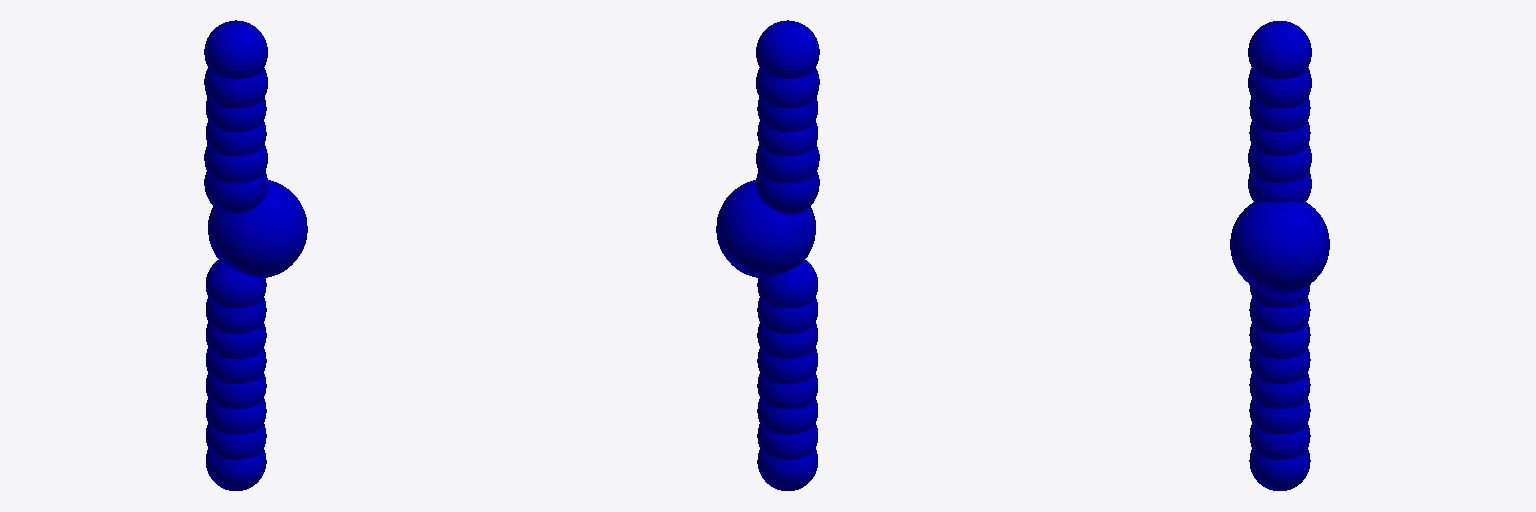
URDF robot description (wam):
<?xml version="1.0" ?>
<!-- =================================================================================== -->
<!-- |    This document was autogenerated by xacro from ./wam7.urdf.xacro              | -->
<!-- |    EDITING THIS FILE BY HAND IS NOT RECOMMENDED                                 | -->
<!-- =================================================================================== -->
<robot name="wam">
  <!-- Include all the WAM stuff -->
  <material name="WAMGrey">
    <color rgba="0.7 0.7 0.7 1.0"/>
  </material>
  <material name="Red">
        <color rgba="0.8 0.0 0.0 1.0"/>
    </material>
    <material name="Blue">
        <color rgba="0.0 0.0 0.8 1.0"/>
    </material>
    <material name="White">
        <color rgba="1.0 1.0 1.0 1.0"/>
    </material>
    <material name="Black">
        <color rgba="0.0 0.0 0.0 1.0"/>
    </material>
  <!-- Root link is in the world frame-->
  <link name="world"/>
  <!-- 7-DOF Wam -->
  <joint name="wam/wam_fixed_joint" type="fixed">
    <parent link="world"/>
    <child link="wam/base_link"/>
    <origin xyz="0.0 0.0 0.0" rpy="0 0 0"/>
  </joint>
  <link name="wam/base_link">
    <inertial>
      <origin xyz="0 0 0"/>
      <mass value="1"/>
      <inertia ixx="0.1" ixy="0" ixz="0" iyy="0.1" iyz="0" izz="0.1"/>
    </inertial>
    <visual>
      <material name="WAMGrey">
        <color rgba="0.7 0.7 0.7 0.0"/>
      </material>
      <geometry>
        <mesh filename="package://sw_meshes/base_link_fine.stl"/>
      </geometry>
    </visual>
    <collision>
      <geometry>
        <mesh filename="package://sw_meshes/base_link_convex.dae"/>
      </geometry>
    </collision>
  </link>
  <joint name="wam/base_yaw_joint" type="revolute">
    <parent link="wam/base_link"/>
    <child link="wam/shoulder_yaw_link"/>
    <origin xyz="0 0 0.346" rpy="0 0 0"/>
    <axis xyz="0 0 1"/>
    <limit effort="60" lower="-2.6" upper="2.6" velocity="2.0"/>
    <dynamics damping="1.9800000000000002" friction="0"/>
  </joint>
  <gazebo reference="wam/base_yaw_joint">
    <provideFeedback>true</provideFeedback>
    <implicitSpringDamper>true</implicitSpringDamper>
  </gazebo>
  <link name="wam/shoulder_yaw_link">
    <inertial>
      <origin xyz="-.00443422 -.00066489 -0.1289039 "/>
      <mass value="5.0"/>
      <inertia ixx=".13488033" ixy="-0.00012485" ixz="0.00213041" iyy=".09046330" iyz="-.00068555" izz=".11328369"/>
    </inertial>
    <visual>
      <material name="WAMGrey">
        <color rgba="0.7 0.7 0.7 1.0"/>
      </material>
      <geometry>
        <mesh filename="package://sw_meshes/shoulder_link_fine.stl"/>
      </geometry>
    </visual>
    <collision>
      <geometry>
        <mesh filename="package://sw_meshes/shoulder_link_convex_decomposition.dae"/>
      </geometry>
    </collision>
  </link>
  <joint name="wam/shoulder_pitch_joint" type="revolute">
    <parent link="wam/shoulder_yaw_link"/>
    <child link="wam/shoulder_pitch_link"/>
    <origin xyz="0 0 0" rpy="-1.5707963267948966 0 0"/>
    <axis xyz="0 0 1"/>
    <limit effort="60" lower="-1.985" upper="1.985" velocity="2.0"/>
    <dynamics damping="0.55" friction="0"/>
  </joint>
  <gazebo reference="wam/shoulder_pitch_joint">
    <provideFeedback>true</provideFeedback>
    <implicitSpringDamper>true</implicitSpringDamper>
  </gazebo>
  <link name="wam/shoulder_pitch_link">
    <visual>
      <material name="WAMGrey">
        <color rgba="0.7 0.7 0.7 1.0"/>
      </material>
      <geometry>
        <mesh filename="package://sw_meshes/shoulder_pitch_link_fine.stl"/>
      </geometry>
    </visual>
    
    <visual name="ball_2">
      <origin xyz="-0.0 -0.1 -0.0" rpy="0.0 -0.0 0.0"/>
      <geometry>
        <sphere radius="0.055"/>
      </geometry>
      <material name="Blue"/>
    </visual>
    <visual name="ball_2">
      <origin xyz="-0.0 -0.15 -0.0" rpy="0.0 -0.0 0.0"/>
      <geometry>
        <sphere radius="0.055"/>
      </geometry>
      <material name="Blue"/>
    </visual>
    <visual name="ball_2">
      <origin xyz="-0.0 -0.2 -0.0" rpy="0.0 -0.0 0.0"/>
      <geometry>
        <sphere radius="0.055"/>
      </geometry>
      <material name="Blue"/>
    </visual>
    <visual name="ball_2">
      <origin xyz="-0.0 -0.25 -0.0" rpy="0.0 -0.0 0.0"/>
      <geometry>
        <sphere radius="0.055"/>
      </geometry>
      <material name="Blue"/>
    </visual>
    <visual name="ball_2">
      <origin xyz="-0.0 -0.30 -0.0" rpy="0.0 -0.0 0.0"/>
      <geometry>
        <sphere radius="0.055"/>
      </geometry>
      <material name="Blue"/>
    </visual>
    <visual name="ball_2">
      <origin xyz="-0.0 -0.35 -0.0" rpy="0.0 -0.0 0.0"/>
      <geometry>
        <sphere radius="0.055"/>
      </geometry>
      <material name="Blue"/>
    </visual>
    <visual name="ball_2">
      <origin xyz="-0.0 -0.4 -0.0" rpy="0.0 -0.0 0.0"/>
      <geometry>
        <sphere radius="0.055"/>
      </geometry>
      <material name="Blue"/>
    </visual>
    <visual name="ball_2">
      <origin xyz="-0.0 -0.45 -0.0" rpy="0.0 -0.0 0.0"/>
      <geometry>
        <sphere radius="0.055"/>
      </geometry>
      <material name="Blue"/>
    </visual>
    <inertial>
      <origin xyz="-.00236981 -.01542114 .03105614 "/>
      <mass value="3.87493756"/>
      <inertia ixx="0.02140958" ixy="-0.00002461" ixz="0.00027172" iyy="0.015589060" iyz="0.0018192" izz="0.01377875"/>
    </inertial>
    <collision>
      <geometry>
        <mesh filename="package://sw_meshes/shoulder_pitch_link_convex.dae"/>
      </geometry>
    </collision>
  </link>
  <joint name="wam/shoulder_yaw_joint" type="revolute">
    <parent link="wam/shoulder_pitch_link"/>
    <child link="wam/upper_arm_link"/>
    <origin xyz="0 0 0" rpy="1.5707963267948966 0 0"/>
    <axis xyz="0 0 1"/>
    <limit effort="45" lower="-2.8" upper="2.8" velocity="2.0"/>
    <dynamics damping="1.6500000000000001" friction="0"/>
  </joint>
  <gazebo reference="wam/shoulder_yaw_joint">
    <provideFeedback>true</provideFeedback>
    <implicitSpringDamper>true</implicitSpringDamper>
  </gazebo>
  <link name="wam/upper_arm_link">
    <inertial>
      <origin xyz="0.00683258580000000 0.000033090000000 0.392492300000000"/>
      <mass value="2.20228141"/>
      <inertia ixx=".05911077" ixy="-0.00000738" ixz="-0.00249612" iyy="0.05927043" iyz="0.00001767" izz="0.0032455"/>
    </inertial>
    <visual>
      <material name="WAMGrey">
        <color rgba="0.7 0.7 0.7 1.0"/>
      </material>
      <geometry>
        <mesh filename="package://sw_meshes/upper_arm_link_fine.stl"/>
      </geometry>
    </visual>
    <collision>
      <geometry>
        <mesh filename="package://sw_meshes/upper_arm_link_convex_decomposition.dae"/>
      </geometry>
    </collision>
  </link>
  <joint name="wam/elbow_pitch_joint" type="revolute">
    <parent link="wam/upper_arm_link"/>
    <child link="wam/forearm_link"/>
    <origin xyz="0.045 0 0.55" rpy="-1.5707963267948966 0 0"/>
    <axis xyz="0 0 1"/>
    <limit effort="30" lower="-0.9" upper="3.141592653589793" velocity="2.00"/>
    <dynamics damping="0.8800000000000001" friction="0"/>
  </joint>
  <gazebo reference="wam/elbow_pitch_joint">
    <provideFeedback>true</provideFeedback>
    <implicitSpringDamper>true</implicitSpringDamper>
  </gazebo>
  <link name="wam/forearm_link">
    <inertial>
      <mass value="0.50016804"/>
      <origin xyz="-0.04001488 -.14271662 -.00022942 " rpy="0 0 0"/>
      <inertia ixx="0.01491672" ixy="0.001506040000000" ixz="0.000017410000000" iyy="0.002944630000000" iyz="0.000021090000000" izz="0.014829880000000"/>
    </inertial>
    <visual>
      <material name="WAMGrey">
        <color rgba="0.7 0.7 0.7 1.0"/>
      </material>
      <geometry>
        <mesh filename="package://sw_meshes/elbow_link_fine.stl"/>
      </geometry>
    </visual>
    <visual name="ball_0">
      <origin xyz="-0.00 -0.0 0.0" rpy="0.0 -0.0 0.0"/>
      <geometry>
        <sphere radius="0.09"/>
      </geometry>
      <material name="Blue"/>
    </visual>
    <visual name="ball_0">
      <origin xyz="-0.045 -0.1 0.0" rpy="0.0 -0.0 0.0"/>
      <geometry>
        <sphere radius="0.0575"/>
      </geometry>
      <material name="Blue"/>
    </visual>
    <visual name="ball_0">
      <origin xyz="-0.045 -0.15 0.0" rpy="0.0 -0.0 0.0"/>
      <geometry>
        <sphere radius="0.0575"/>
      </geometry>
      <material name="Blue"/>
    </visual>
    <visual name="ball_0">
      <origin xyz="-0.045 -0.2 0.0" rpy="0.0 -0.0 0.0"/>
      <geometry>
        <sphere radius="0.055"/>
      </geometry>
      <material name="Blue"/>
    </visual>
    <visual name="ball_0">
      <origin xyz="-0.045 -0.25 0.0" rpy="0.0 -0.0 0.0"/>
      <geometry>
        <sphere radius="0.055"/>
      </geometry>
      <material name="Blue"/>
    </visual>
    <collision>
      <geometry>
        <mesh filename="package://sw_meshes/elbow_link_convex.dae"/>
      </geometry>
    </collision>
    <visual>
      <material name="WAMGrey">
        <color rgba="0.7 0.7 0.7 1.0"/>
      </material>
      <origin xyz="-0.045 -0.0730 0" rpy="1.5707963267948966 0 0"/>
      <geometry>
        <mesh filename="package://sw_meshes/forearm_link_fine.stl"/>
      </geometry>
    </visual>
    <collision>
      <origin xyz="-0.045 -0.0730 0" rpy="1.5707963267948966 0 0"/>
      <geometry>
        <mesh filename="package://sw_meshes/forearm_link_convex_decomposition.dae"/>
      </geometry>
    </collision>
  </link>
  <joint name="wam/wrist_yaw_joint" type="revolute">
    <parent link="wam/forearm_link"/>
    <child link="wam/wrist_yaw_link"/>
    <origin xyz="-0.045 -0.3 0" rpy="1.5707963267948966 0 0"/>
    <axis xyz="0 0 1"/>
    <limit effort="10" lower="-4.55" upper="1.25" velocity="2.0"/>
    <dynamics damping="0.55" friction="0"/>
  </joint>
  <gazebo reference="wam/wrist_yaw_joint">
    <provideFeedback>true</provideFeedback>
    <implicitSpringDamper>true</implicitSpringDamper>
  </gazebo>
  <link name="wam/wrist_yaw_link">
    <inertial>
      <origin xyz="0.00008921 0.00435824 -0.00511217 "/>
      <mass value="1.05376019"/>
      <inertia ixx="0.00005029" ixy="0.00000020" ixz="0.00007582" iyy="0.00007582" iyz="-0.00000359" izz="0.00006270"/>
    </inertial>
    <visual>
      <material name="WAMGrey">
        <color rgba="0.7 0.7 0.7 1.0"/>
      </material>
      <origin xyz="0 0 0" rpy="0 0 0"/>
      <geometry>
        <mesh filename="package://sw_meshes/wrist_yaw_link_fine.stl"/>
      </geometry>
    </visual>
    
    <collision>
      <origin xyz="0 0 0" rpy="0 0 0"/>
      <geometry>
        <mesh filename="package://sw_meshes/wrist_yaw_link_convex_decomposition.dae"/>
      </geometry>
    </collision>
  </link>
  <joint name="wam/wrist_pitch_joint" type="revolute">
    <parent link="wam/wrist_yaw_link"/>
    <child link="wam/wrist_pitch_link"/>
    <origin xyz="0 0 0" rpy="-1.5707963267948966 0 0"/>
    <axis xyz="0 0 1"/>
    <limit effort="10" lower="-1.5707" upper="1.5707" velocity="2.00"/>
    <dynamics damping="0.11000000000000001" friction="0"/>
  </joint>
  <gazebo reference="wam/wrist_pitch_joint">
    <provideFeedback>true</provideFeedback>
    <implicitSpringDamper>true</implicitSpringDamper>
  </gazebo>
  <link name="wam/wrist_pitch_link">
    <inertial>
      <origin xyz="-0.00012262 -0.02468336 -0.01703194 " rpy="0 0 0"/>
      <mass value="0.51797364"/>
      <inertia ixx="0.00055516" ixy="0.00000061" ixz="-0.00000074" iyy="0.00024367" iyz="-0.00004590" izz="0.00045358"/>
    </inertial>
    <visual>
      <material name="WAMGrey">
        <color rgba="0.7 0.7 0.7 1.0"/>
      </material>
      <geometry>
        <mesh filename="package://sw_meshes/wrist_pitch_link_fine.stl"/>
      </geometry>
    </visual>
    <visual name="ball_0">
      <origin xyz="0.0 -0.0 0.0" rpy="0.0 -0.0 0.0"/>
      <geometry>
        <sphere radius="0.0575"/>
      </geometry>
      <material name="Blue"/>
    </visual>
    <collision>
      <geometry>
        <mesh filename="package://sw_meshes/wrist_pitch_link_convex_decomposition.dae"/>
      </geometry>
    </collision>
  </link>
  <joint name="wam/palm_yaw_joint" type="revolute">
    <parent link="wam/wrist_pitch_link"/>
    <child link="wam/wrist_palm_link"/>
    <origin xyz="0 0 0" rpy="1.5707963267948966 0 0"/>
    <axis xyz="0 0 1"/>
    <limit effort="10" lower="-3.0" upper="3.0" velocity="2.00"/>
    <!-- 2.95 is a limit taken in from 3 due to safety and differences between arms. -->
    <dynamics damping="0.11000000000000001" friction="0"/>
  </joint>
  <gazebo reference="wam/palm_yaw_joint">
    <provideFeedback>true</provideFeedback>
    <implicitSpringDamper>true</implicitSpringDamper>
  </gazebo>
  <link name="wam/wrist_palm_link">
    <inertial>
      <origin xyz="0.0 0.0 0.055" rpy="0 0 0"/>
      <mass value="0.08286134"/>
      <inertia ixx="0.00010859" ixy="0.00000000" ixz="-0.00000000" iyy="0.00020683" iyz="-0.0000000" izz="0.00010851"/>
    </inertial>
    <visual>
      <material name="WAMGrey">
        <color rgba="0.7 0.7 0.7 1.0"/>
      </material>
      <origin xyz="0 0 0" rpy="0 0 0"/>
      <geometry>
        <mesh filename="package://sw_meshes/wrist_palm_link_fine.stl"/>
      </geometry>
    </visual>
    
    <collision>
      <origin xyz="0 0 0" rpy="0 0 0"/>
      <geometry>
        <mesh filename="package://sw_meshes/wrist_palm_link_convex.dae"/>
      </geometry>
    </collision>
  </link>
  <joint name="wam/wrist_palm_stump_joint" type="fixed">
    <parent link="wam/wrist_palm_link"/>
    <child link="wam/wrist_palm_stump_link"/>
    <origin xyz="0 0 0.06" rpy="0 0 0"/>
  </joint>
  <link name="wam/wrist_palm_stump_link">
    <inertial>
      <mass value="0.000001"/>
      <inertia ixx="0.0000001" ixy="0.0" ixz="0.0" iyy="0.0000001" iyz="0.0" izz="0.0000001"/>
    </inertial>

    <visual name="ball_0">
      <origin xyz="0.0 -0.0 0.0" rpy="0.0 -0.0 0.0"/>
      <geometry>
        <sphere radius="0.0575"/>
      </geometry>
      <material name="Blue"/>
    </visual>
  </link>
</robot>

--- Render facts (derived) ---
The picture shows the robot from 3 angles, left to right: view 1: azimuth 30°, elevation 25°; view 2: azimuth 150°, elevation 25°; view 3: azimuth 270°, elevation 25°; orthographic projection.
Model wam with 10 links and 9 joints (7 revolute, 2 fixed), rooted at world, posed every joint at zero.
Visible links, largest first — view 1: wam/forearm_link, wam/shoulder_pitch_link, wam/wrist_palm_stump_link, wam/wrist_pitch_link; view 2: wam/forearm_link, wam/shoulder_pitch_link, wam/wrist_palm_stump_link, wam/wrist_pitch_link; view 3: wam/forearm_link, wam/shoulder_pitch_link, wam/wrist_palm_stump_link, wam/wrist_pitch_link.
Link boxes in pixels (x1,y1,x2,y2): wam/forearm_link: (204,97,307,277); wam/shoulder_pitch_link: (206,260,266,490); wam/wrist_palm_stump_link: (204,20,267,78); wam/wrist_pitch_link: (204,68,267,108); wam/forearm_link: (716,97,819,277); wam/shoulder_pitch_link: (757,260,817,490); wam/wrist_palm_stump_link: (756,20,819,78); wam/wrist_pitch_link: (756,68,819,108); wam/forearm_link: (1230,97,1329,294); wam/shoulder_pitch_link: (1249,284,1310,490); wam/wrist_palm_stump_link: (1248,21,1311,78); wam/wrist_pitch_link: (1248,68,1311,107).
Size in the robot's own frame: 0.1925 by 0.18 by 0.9225 metres.
0 mesh visuals loaded from 9 distinct referenced files (none loaded); not drawn: 9 (reference not matched to a file when rendering).